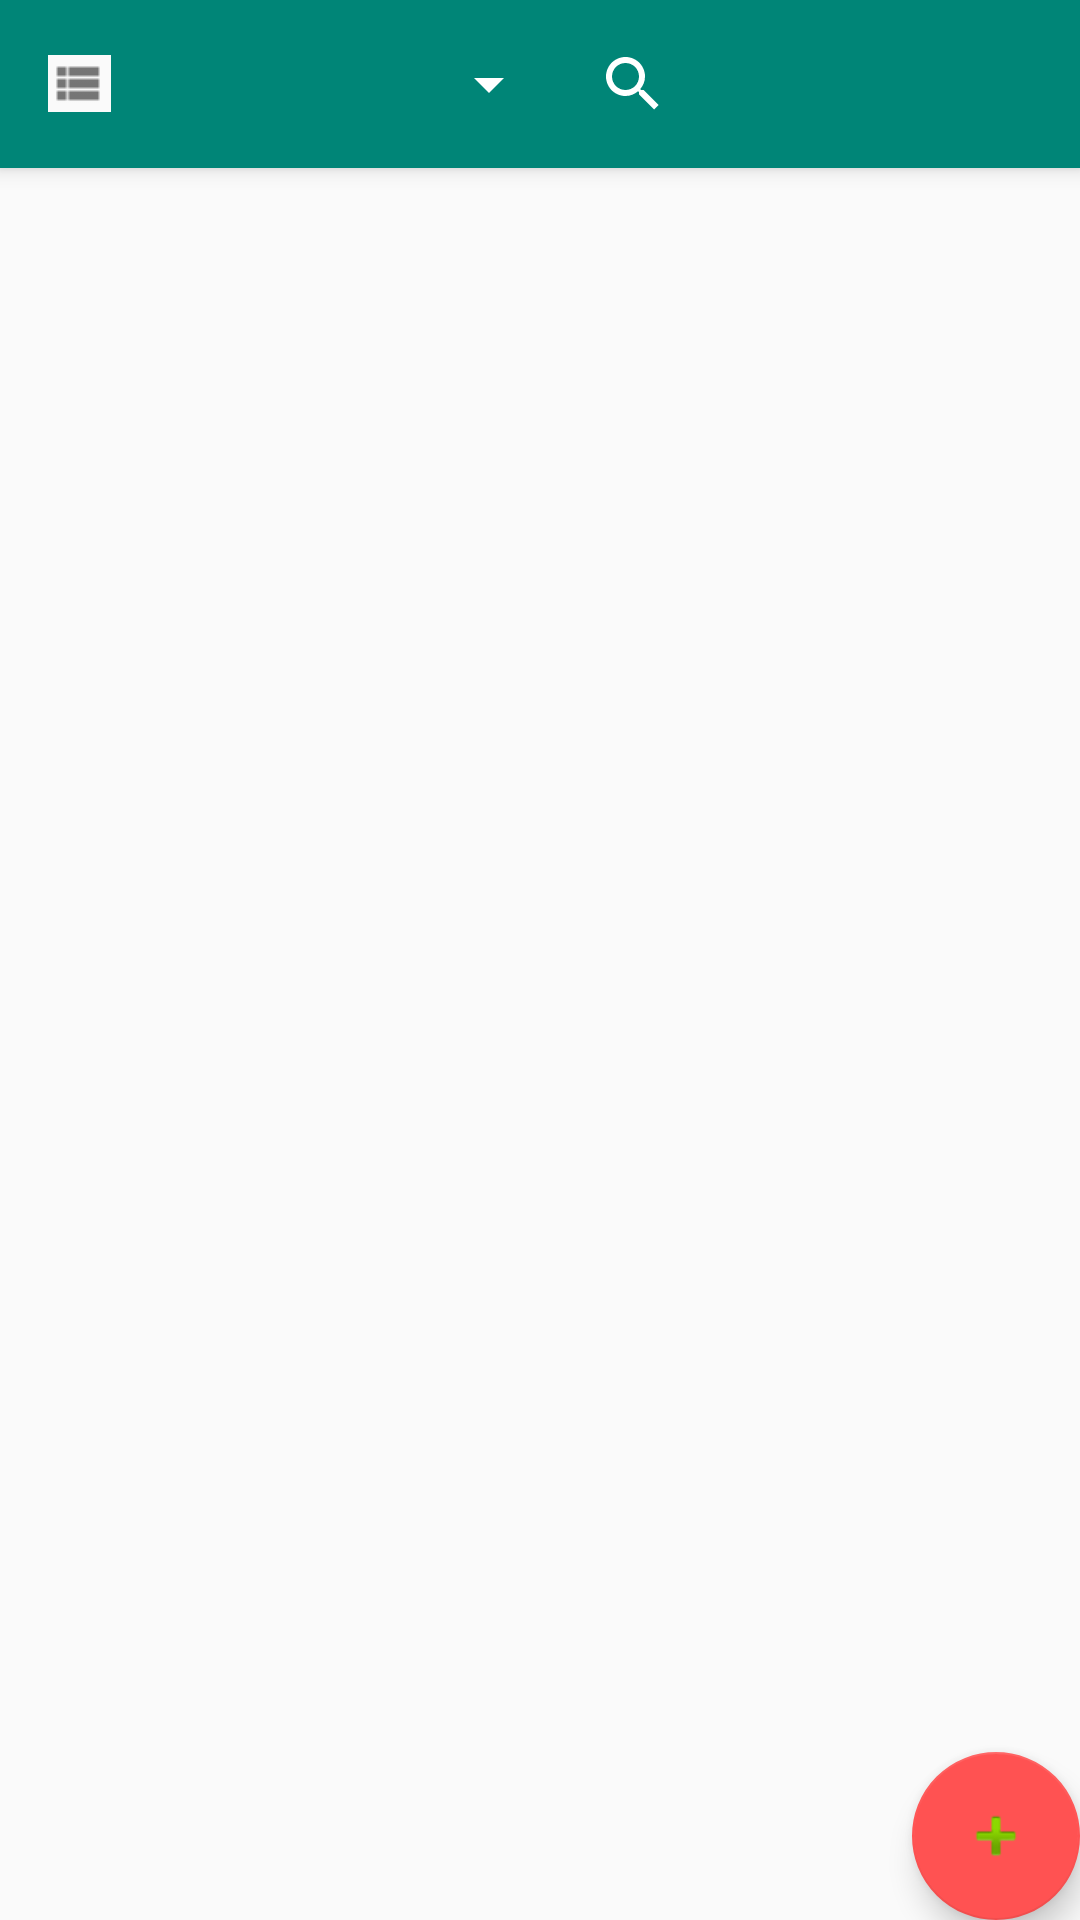

Icon click points for this 1080px x 1920px phone screenshot, format point (x, y):
add: point (996, 1836)
